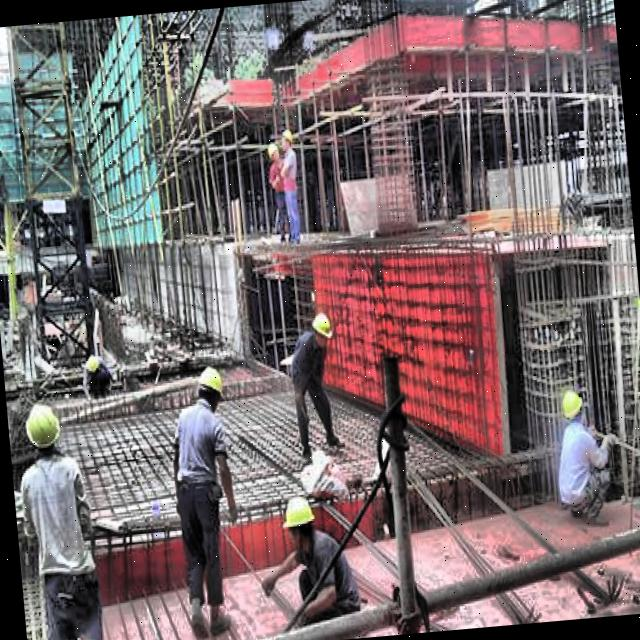helmet: (17, 396, 64, 465), (278, 489, 320, 550), (194, 358, 227, 412), (558, 381, 588, 429), (309, 308, 334, 351), (278, 122, 295, 154), (85, 350, 103, 378), (266, 138, 280, 162)
